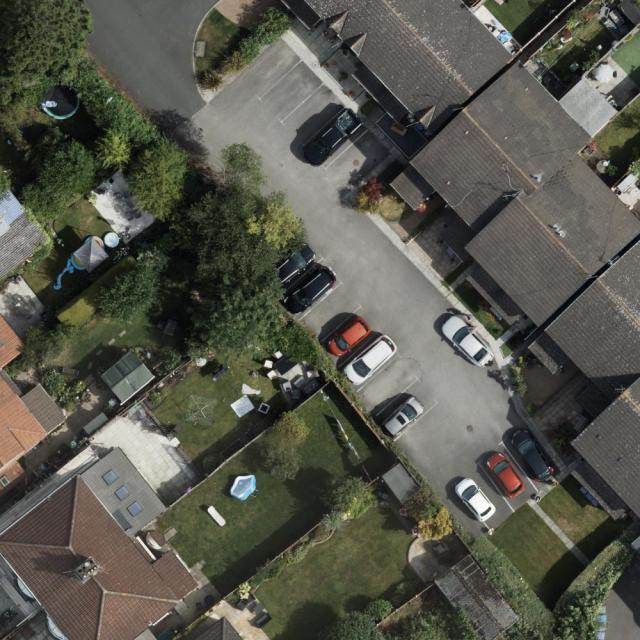roof: (304, 0, 640, 518), (0, 446, 200, 640), (0, 309, 68, 503), (192, 616, 244, 640)
skylight: (112, 483, 133, 501), (124, 500, 145, 517), (103, 467, 119, 485), (1, 474, 11, 487)
